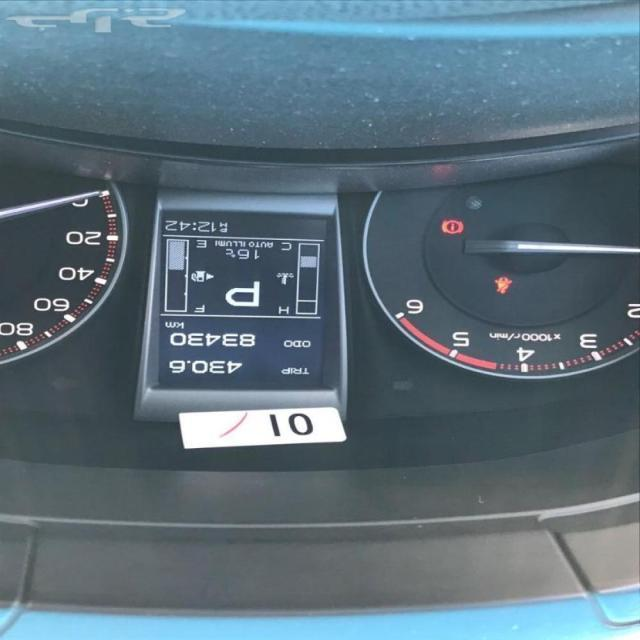Seat Belt: (494, 274, 514, 296)
